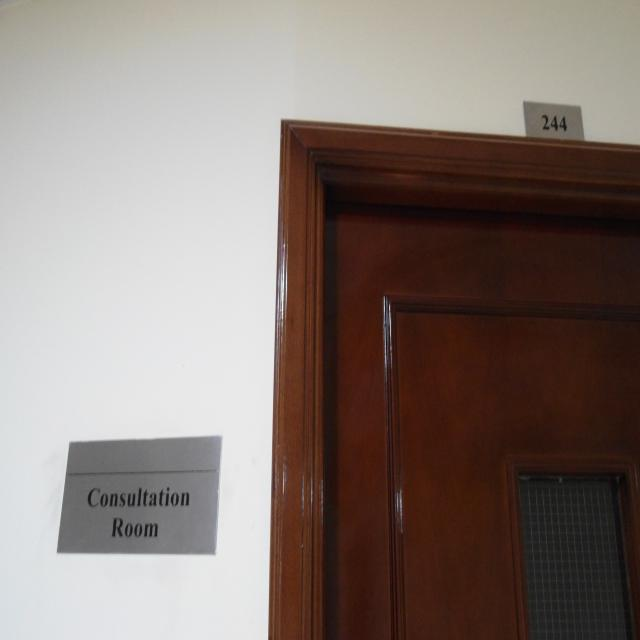door: (264, 103, 640, 640)
sign: (52, 427, 220, 562), (524, 94, 591, 144)
